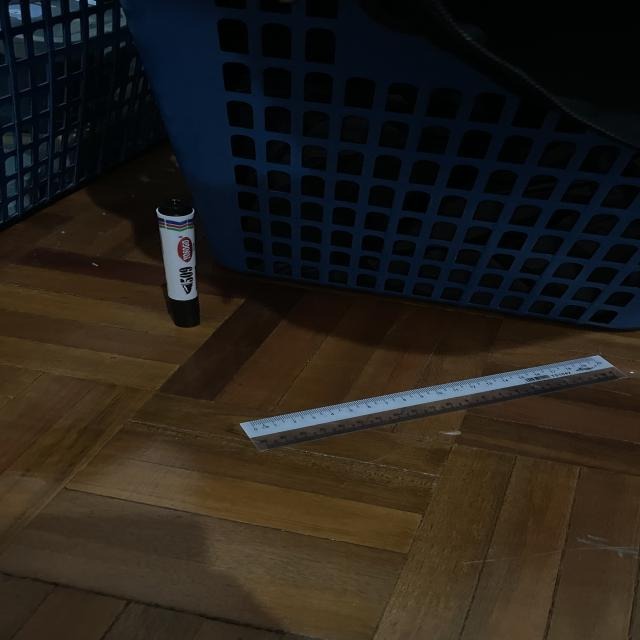marker: (156, 199, 200, 327)
ruler: (240, 356, 626, 451)
